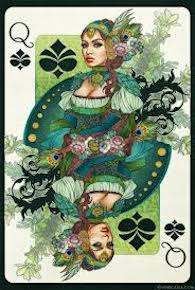QueenOfSpades: (3, 4, 193, 287)
